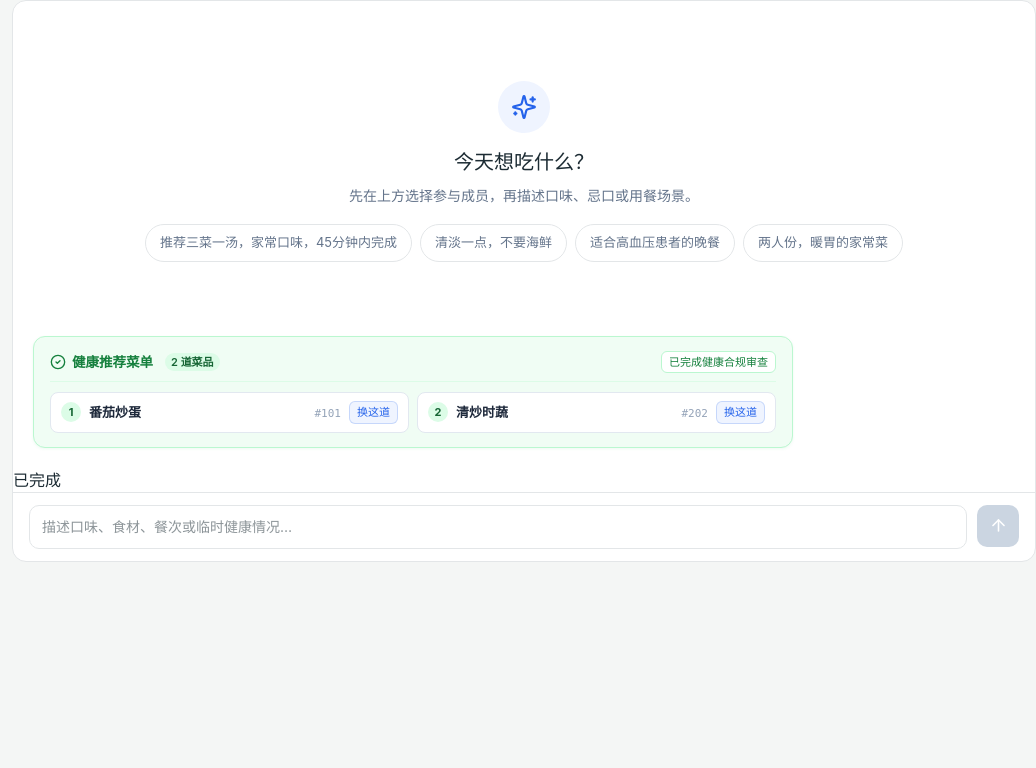
Scenario: ChatPanel（回答正文显示） › ChatPanel（结构化澄清选项展示与交互） › 点击菜品卡片的“换这道”按钮在输入框中填入单菜替换意图
The width and height of the screenshot is (1036, 768).
Click the button with class "dish-replace-btn" in the row of "番茄炒蛋" at (374, 412), box [349,401,398,424]
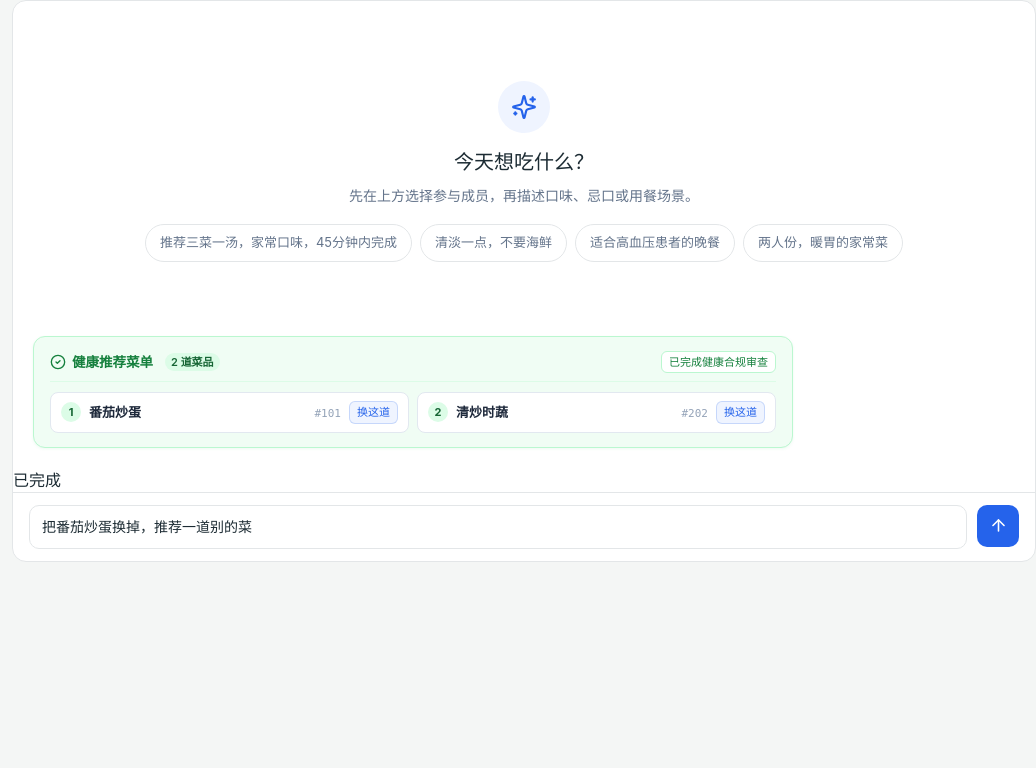
Check: the text box holds "把番茄炒蛋换掉，推荐一道别的菜", box [29,504,967,548]
